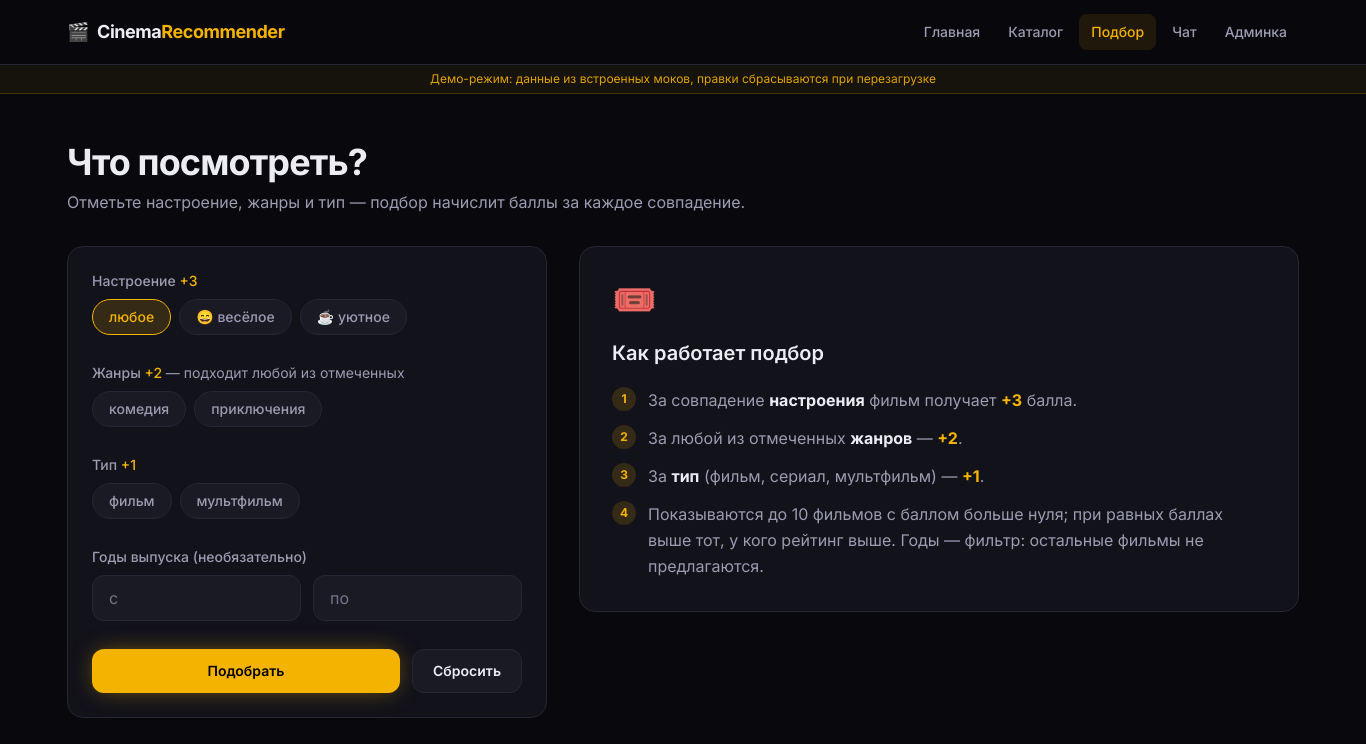
Test case: Страница подбора › пустая форма — ошибка, запрос не отправляется
Click the button "Подобрать": (246, 671) [92, 649, 400, 693]
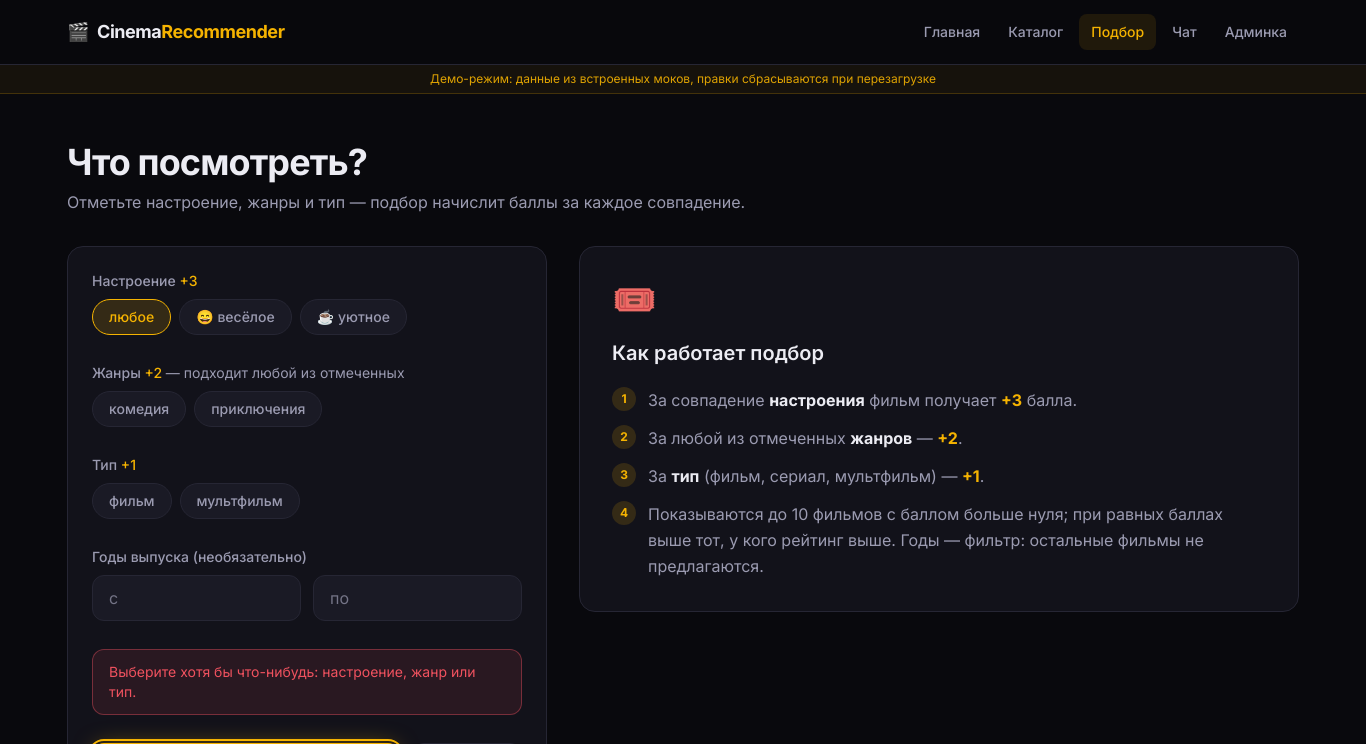
Expected: the message reads "Выберите хотя бы что-нибудь: настроение, жанр или тип.", [109, 663, 476, 700]
